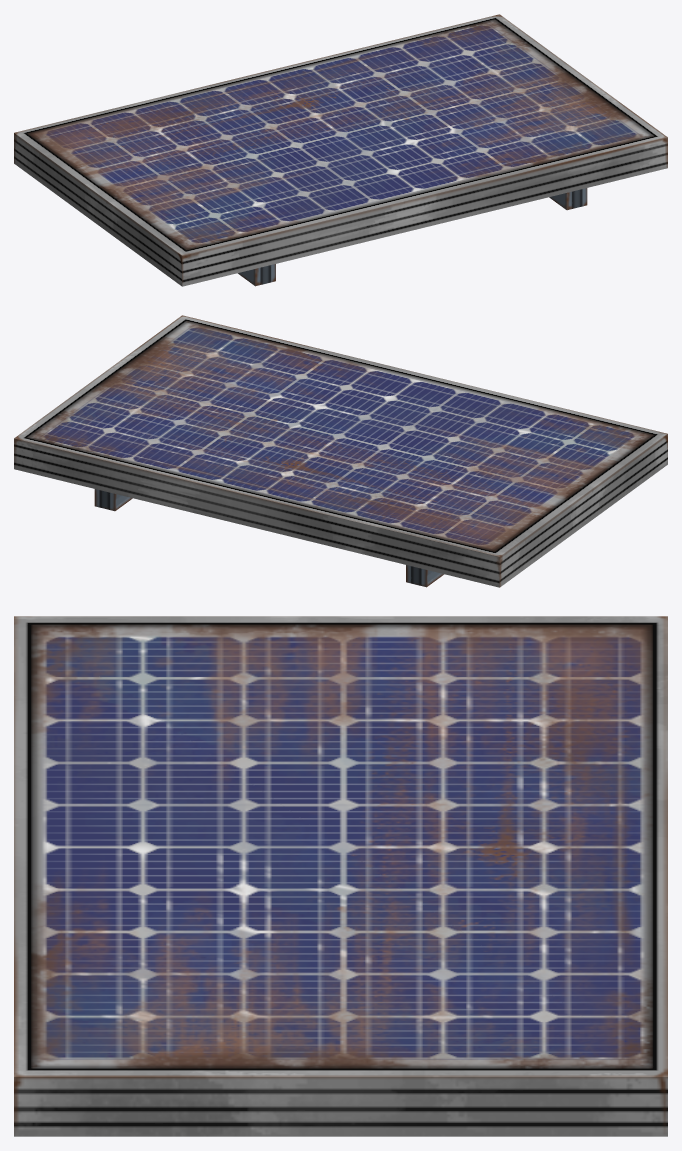
Rendered from solarPanel02.fbx.
The picture shows the model from 3 angles, top to bottom: view 1: azimuth 30°, elevation 25°; view 2: azimuth 150°, elevation 25°; view 3: azimuth 270°, elevation 25°; orthographic projection. The views are drawn at different scales.
Parts seen in each view (by area): view 1: solarPanel02; view 2: solarPanel02; view 3: solarPanel02.
Part boxes in pixels (x1,y1,x2,y2): solarPanel02: (14, 14, 667, 286); solarPanel02: (14, 315, 667, 587); solarPanel02: (14, 616, 667, 1136).
Bounding box in the file's own units: 165 × 17 × 99.
